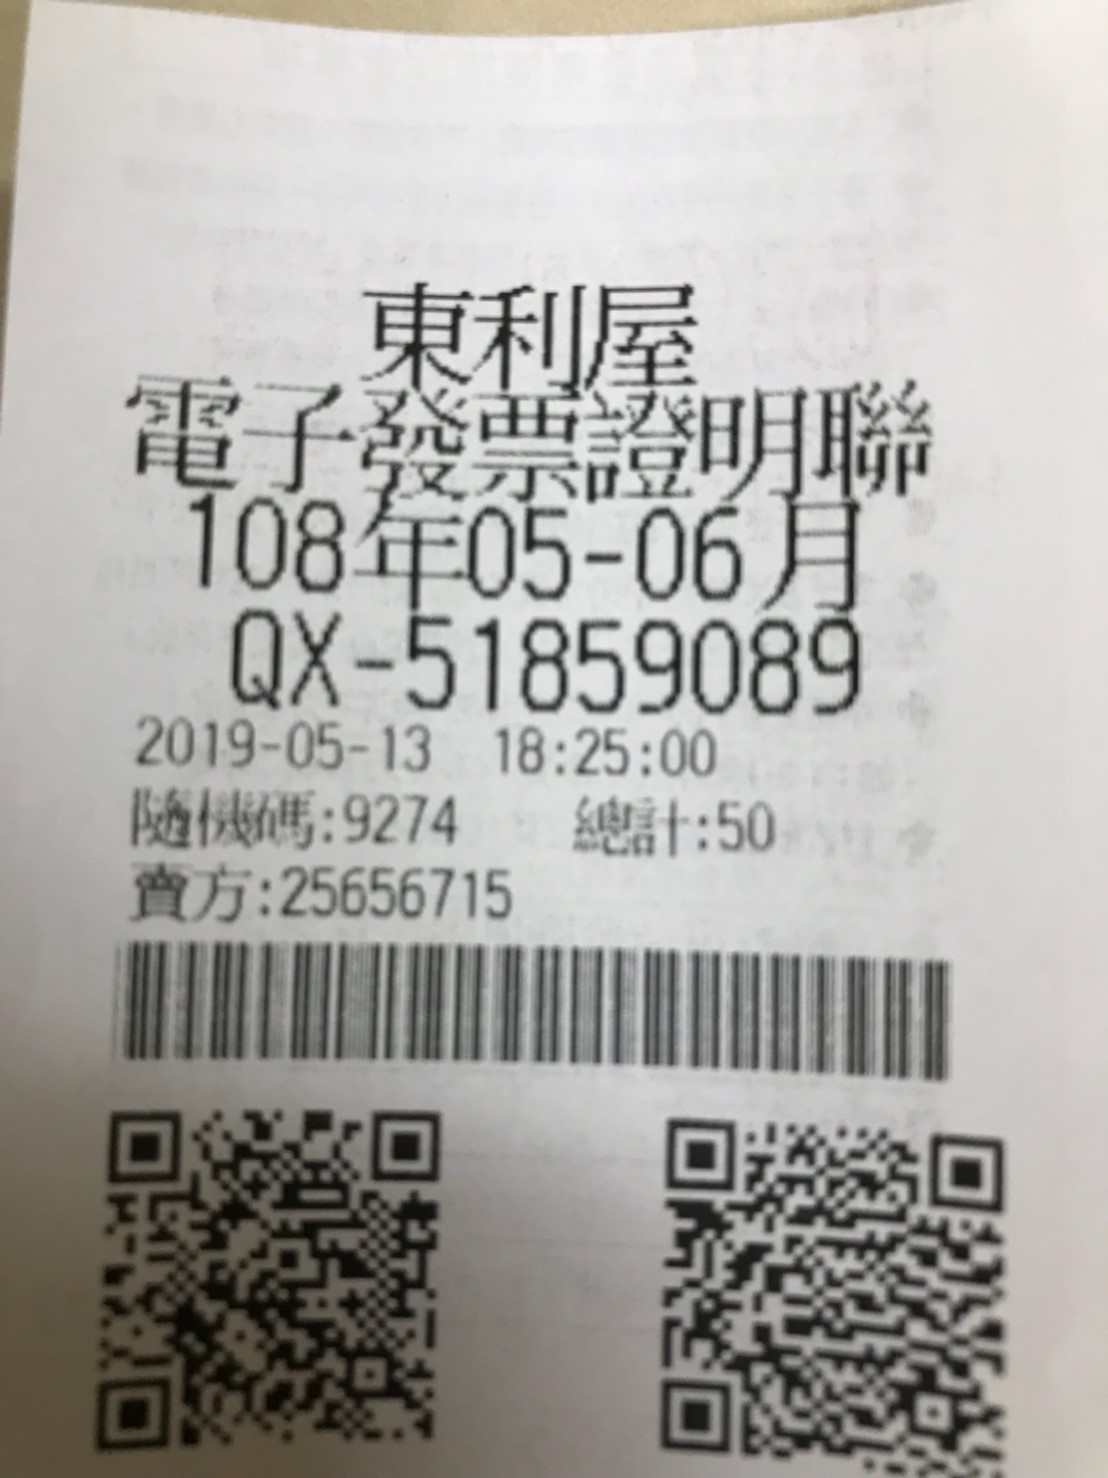Date_New: (190, 486, 865, 620)
Number_New: (405, 603, 865, 725)
